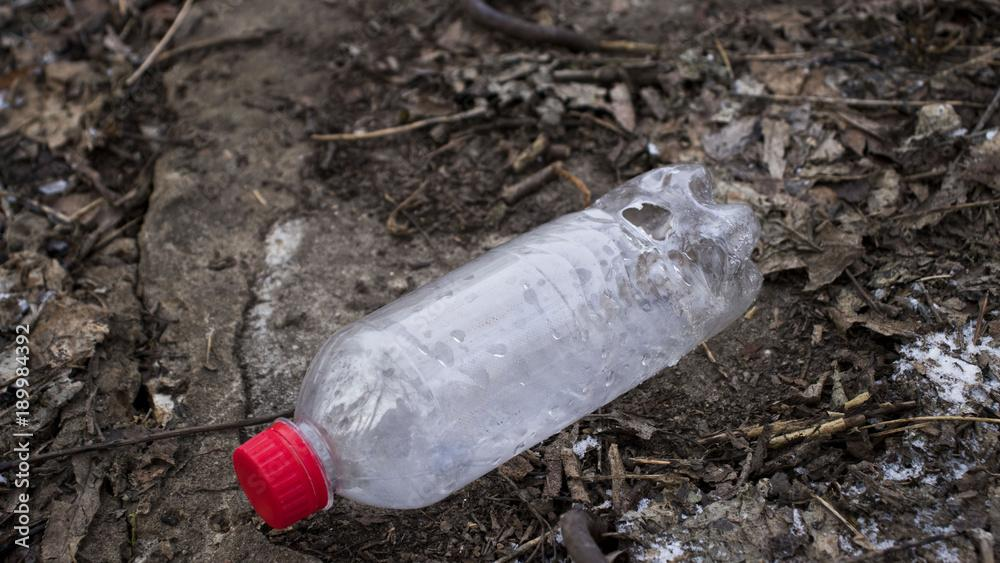bottle: (218, 152, 763, 542)
